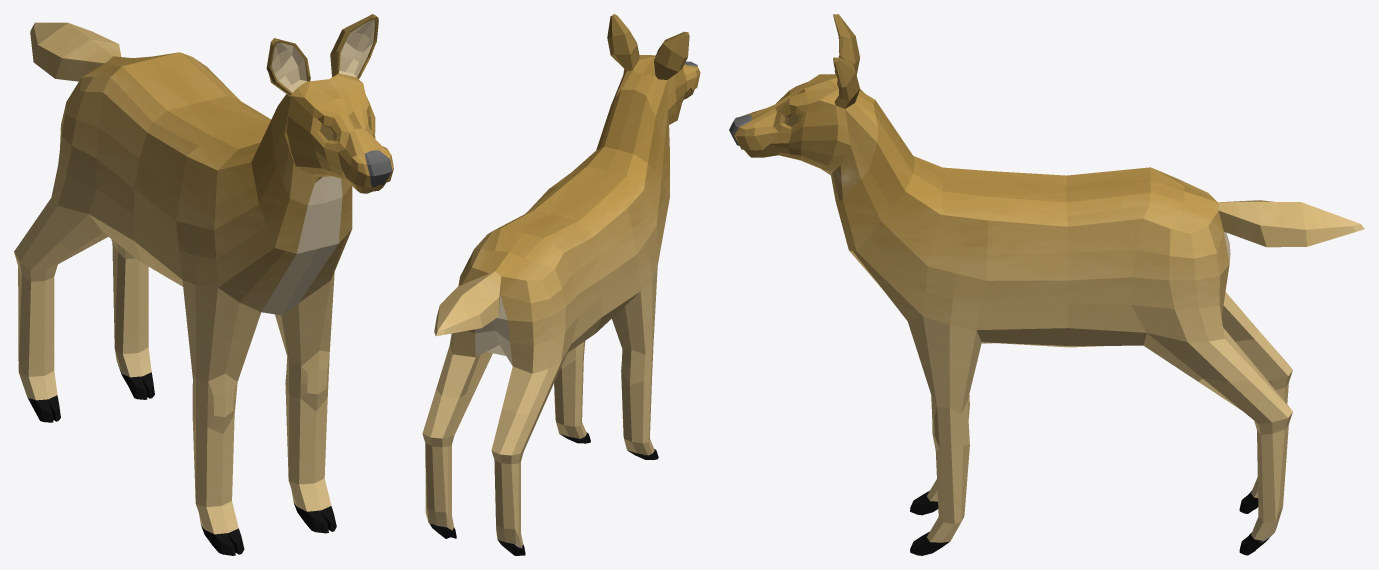
File: DoeWalk.glb
The picture shows the model from 3 angles, left to right: view 1: azimuth 30°, elevation 25°; view 2: azimuth 150°, elevation 25°; view 3: azimuth 270°, elevation 25°; orthographic projection. The views are drawn at different scales.
Visible parts, largest first — view 1: Cube; view 2: Cube; view 3: Cube.
Boxes of the visible parts, <box> form: Cube: <box>14,14,393,555</box>; Cube: <box>422,14,700,555</box>; Cube: <box>729,14,1364,555</box>.
Size of the model in its own units: 1.07 by 3.83 by 4.46.
2 materials, 2 textured.
